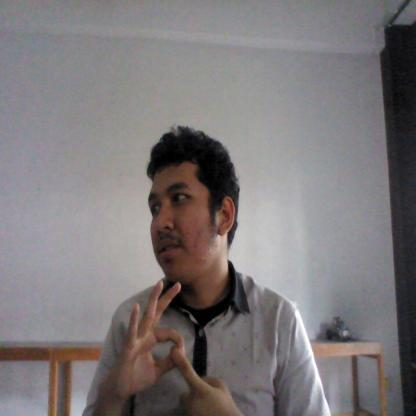Q: (114, 278, 230, 410)
